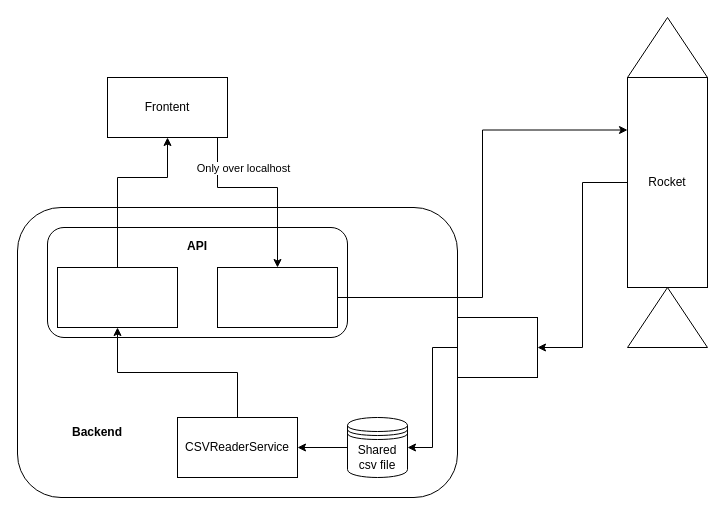
Image size: 725x515. Some labels were removed from this diagram. The shapes that lost their labels are listed below. From the top down, each one's centre as x and y in pixels, then its label:
At point 117,297: "Telemetry Service".
At point 277,297: "Command Service".
At point 497,347: "Telemetry".
